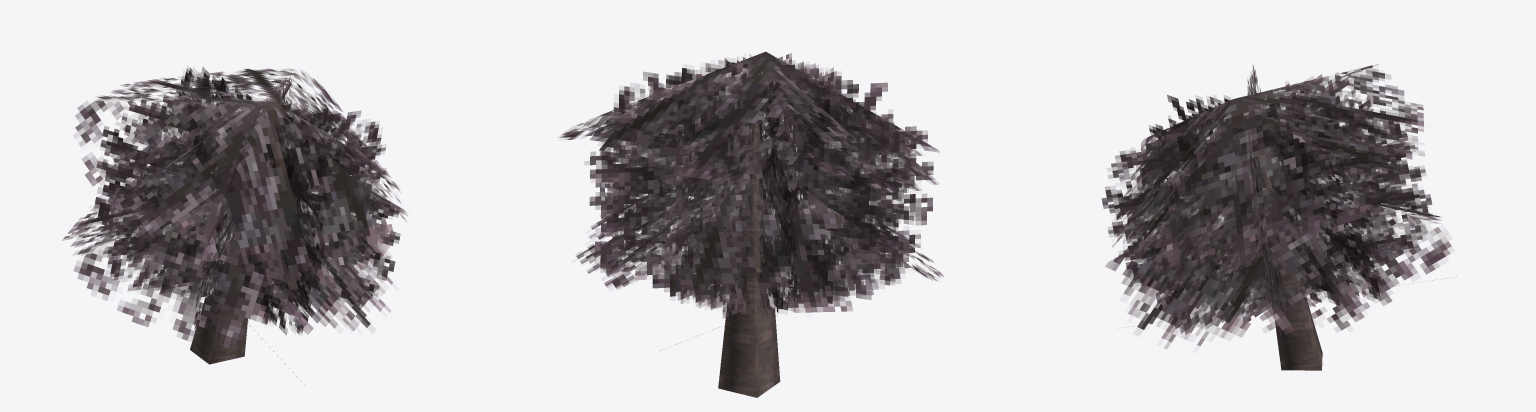
The model's file is Environment - Debris and Ruins - Rubble Mound - Debris - PMDsrtVlt_D.glb.
3 views of the same model, side by side, from view 1: azimuth 30°, elevation 25°; view 2: azimuth 150°, elevation 25°; view 3: azimuth 270°, elevation 25° (orthographic). The views are drawn at different scales.
Visible parts, largest first — view 1: PMDSRTVLT_D; view 2: PMDSRTVLT_D; view 3: PMDSRTVLT_D.
Part boxes in pixels (left/top/right/bottom): PMDSRTVLT_D: left=62, top=66, right=407, bottom=380; PMDSRTVLT_D: left=559, top=51, right=943, bottom=397; PMDSRTVLT_D: left=1101, top=64, right=1456, bottom=370.
Bounding box in the file's own units: 10.37 × 7.06 × 10.26.
Materials: 1 (1 with a texture image).
